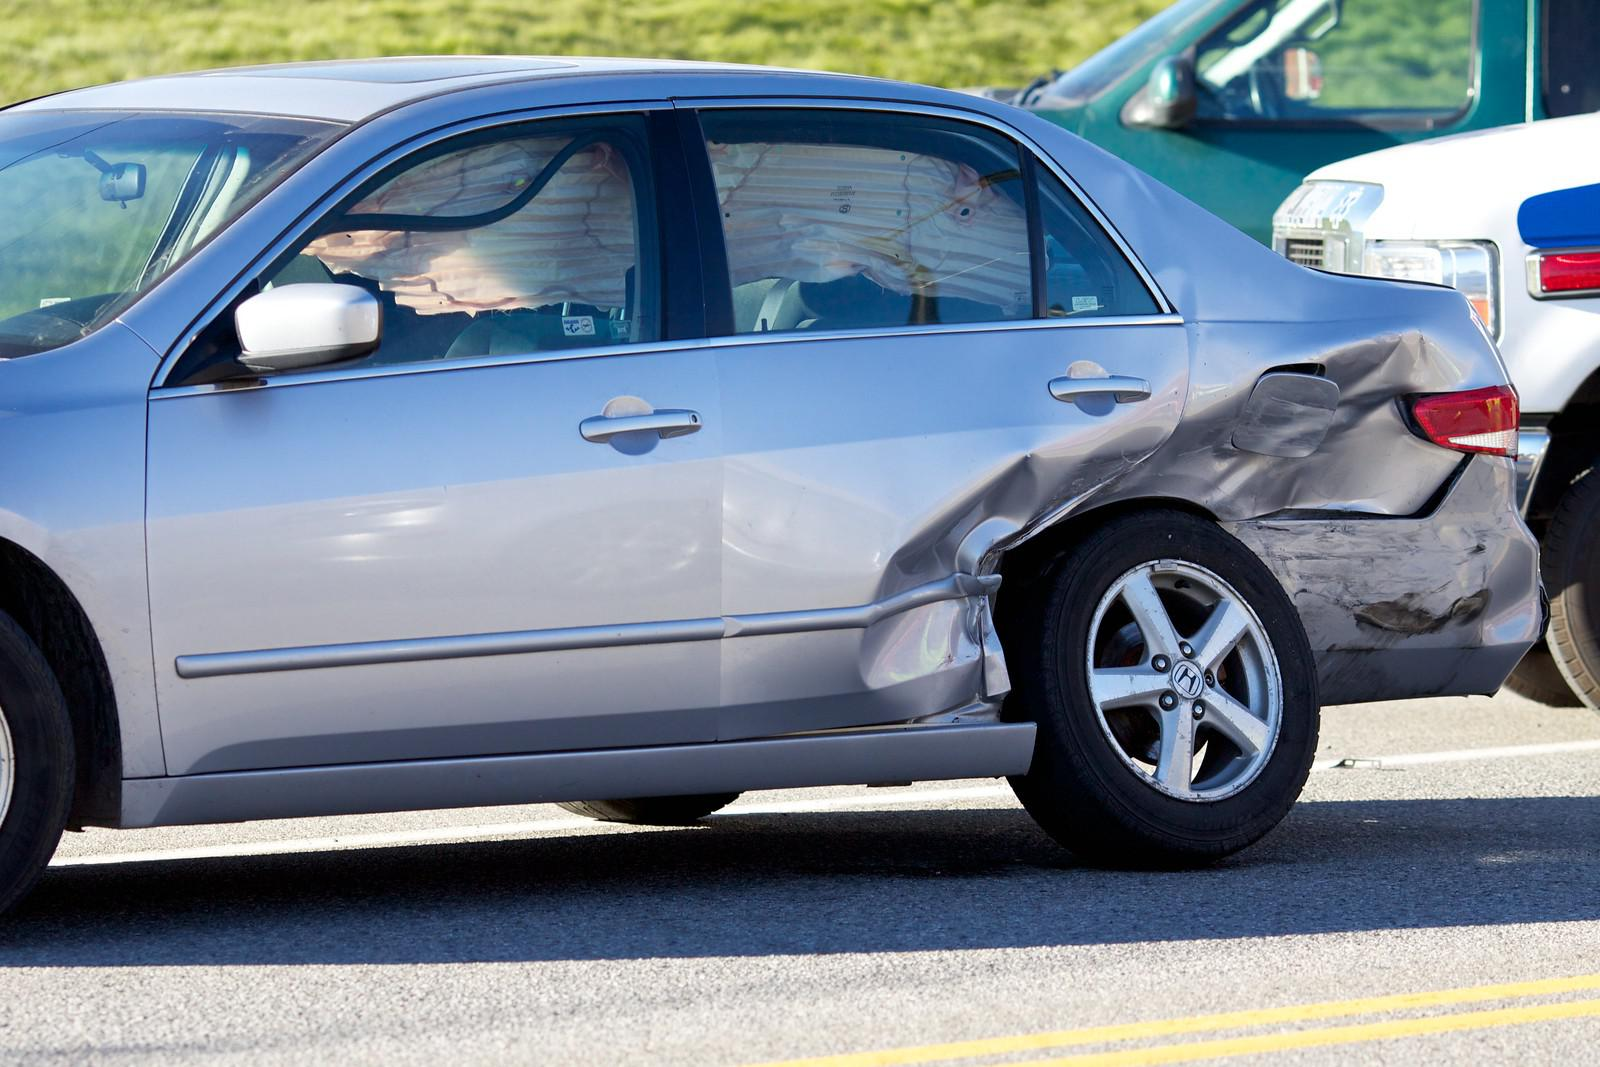doorouter-dent: (751, 318, 1095, 730)
quaterpanel-dent: (1196, 305, 1482, 520)
rear-bumper-dent: (1265, 493, 1542, 690)
